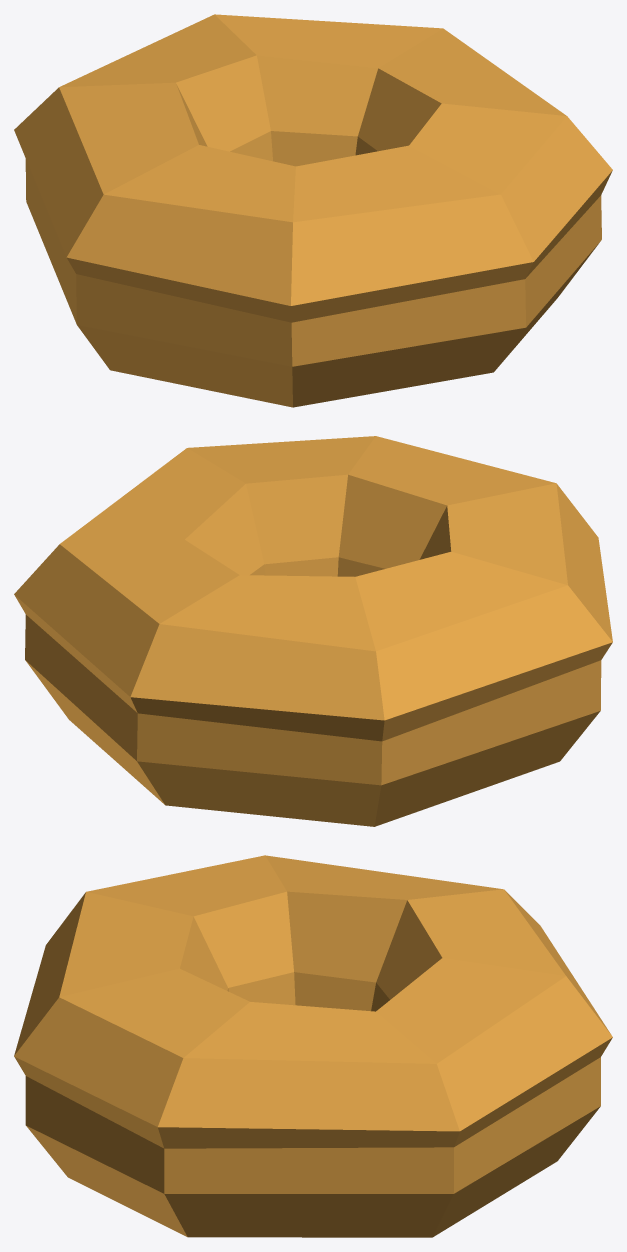
The model's file is food-donut.glb.
3 renders of one model, top to bottom at view 1: azimuth 30°, elevation 25°; view 2: azimuth 150°, elevation 25°; view 3: azimuth 270°, elevation 25°, orthographic.
Visible parts, largest first — view 1: donut; view 2: donut; view 3: donut.
Part boxes in pixels (x1=…): donut: x1=14, y1=14, x2=612, y2=407; donut: x1=14, y1=436, x2=612, y2=826; donut: x1=14, y1=855, x2=612, y2=1237.
Size of the model in its own units: 0.1378 by 0.0559 by 0.1419.
